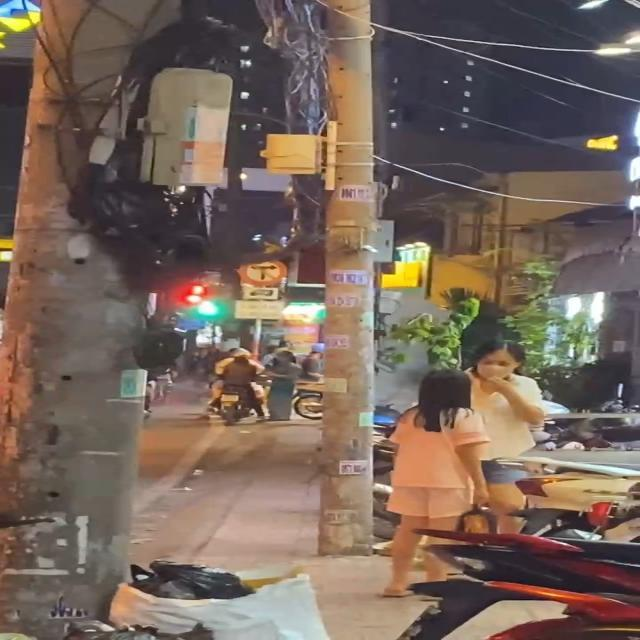137-cam-re-trai-va-re-phai: (235, 255, 285, 285)
